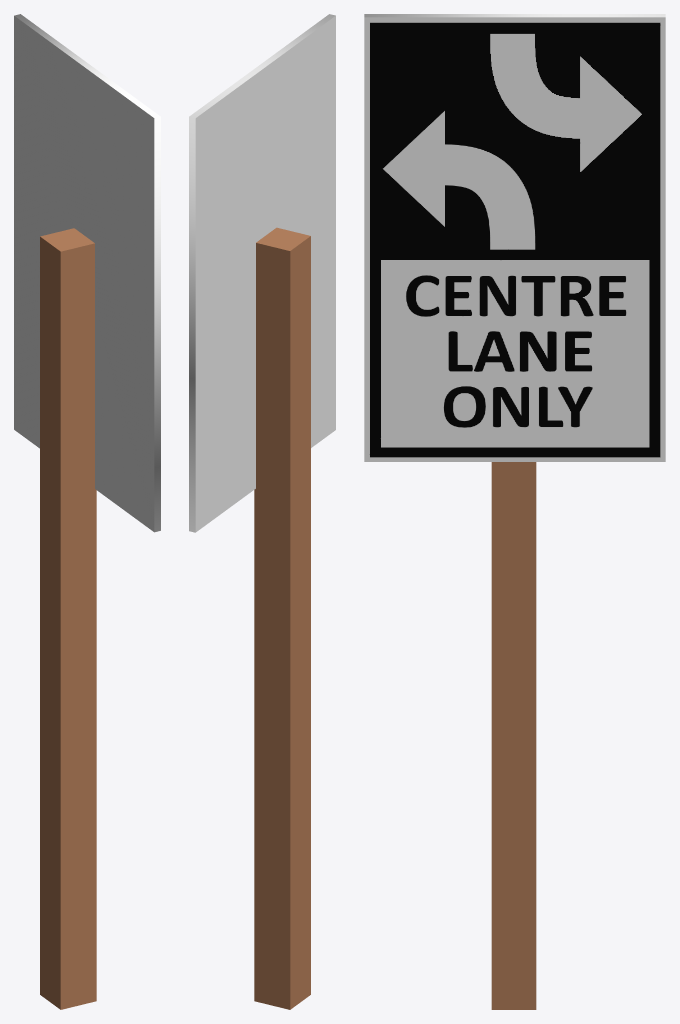
File: Speedsign.fbx
The picture shows the model from 3 angles, left to right: view 1: azimuth 30°, elevation 25°; view 2: azimuth 150°, elevation 25°; view 3: azimuth 270°, elevation 25°; orthographic projection. The views are drawn at different scales.
Visible parts, largest first — view 1: Cylinder.005_Cylinder.001; view 2: Cylinder.005_Cylinder.001; view 3: Cylinder.005_Cylinder.001.
Boxes of the visible parts, <box> form: Cylinder.005_Cylinder.001: <box>14,14,160,1009</box>; Cylinder.005_Cylinder.001: <box>189,14,335,1009</box>; Cylinder.005_Cylinder.001: <box>364,14,665,1009</box>.
Size of the model in its own units: 17.7 by 384 by 105.
